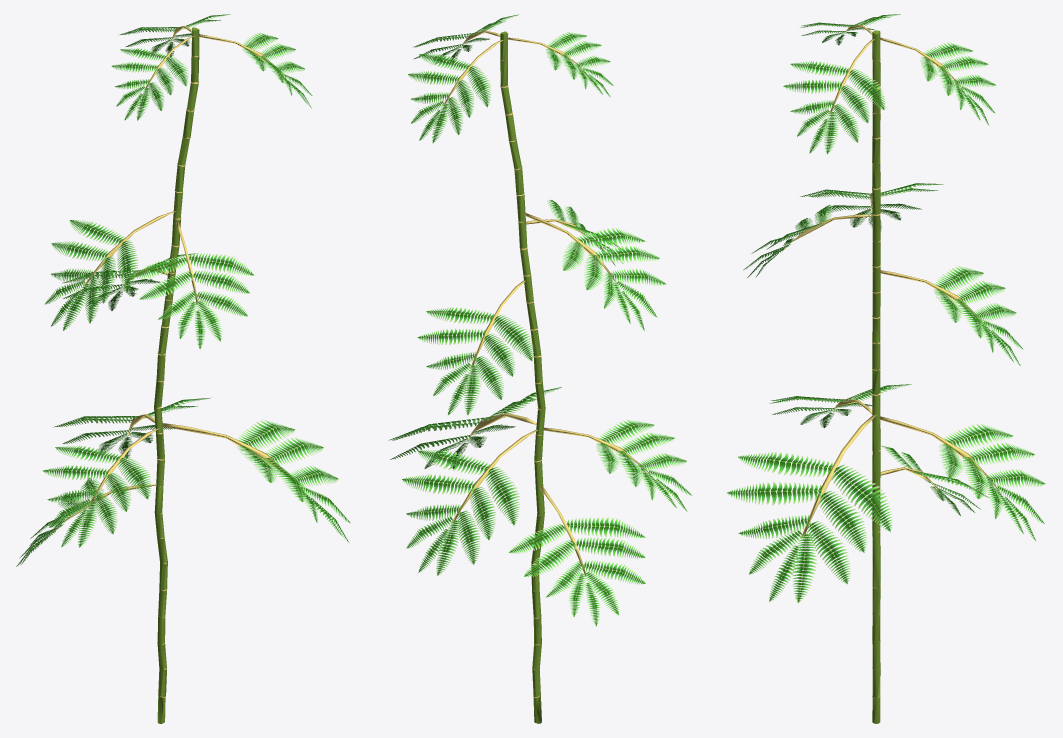
The model's file is bamboo3.fbx.
3 renders of one model, left to right at view 1: azimuth 30°, elevation 25°; view 2: azimuth 150°, elevation 25°; view 3: azimuth 270°, elevation 25°, orthographic. The views are drawn at different scales.
Parts seen in each view (by area): view 1: base, leaf.003, leaf.009, leaf.008, leaf.004, leaf, leaf.005, leaf.001, leaf.007, leaf.006, leaf.002; view 2: leaf.005, leaf.007, base, leaf.006, leaf.008, leaf.003, leaf.002, leaf.004, leaf, leaf.001, leaf.009; view 3: leaf.004, base, leaf.005, leaf.001, leaf.006, leaf.002, leaf.008, leaf.003, leaf.007, leaf.009, leaf.
Boxes of the visible parts, x1,y1,x2,y2 form: base: [154, 27, 199, 723]; leaf.003: [42, 428, 159, 547]; leaf.009: [130, 222, 254, 349]; leaf.008: [45, 211, 175, 330]; leaf.004: [162, 419, 350, 542]; leaf: [111, 35, 194, 120]; leaf.005: [53, 397, 211, 458]; leaf.001: [198, 32, 312, 108]; leaf.007: [16, 477, 156, 566]; leaf.006: [62, 253, 196, 310]; leaf.002: [118, 14, 229, 57]; leaf.005: [402, 430, 537, 575]; leaf.007: [508, 486, 645, 626]; base: [500, 31, 545, 723]; leaf.006: [417, 280, 533, 415]; leaf.008: [524, 213, 666, 330]; leaf.003: [543, 419, 692, 511]; leaf.002: [408, 40, 502, 143]; leaf.004: [388, 387, 561, 468]; leaf: [508, 32, 613, 97]; leaf.001: [412, 14, 518, 64]; leaf.009: [526, 200, 623, 265]; leaf.004: [727, 414, 892, 602]; base: [872, 30, 880, 723]; leaf.005: [878, 416, 1045, 540]; leaf.001: [783, 39, 885, 154]; leaf.006: [872, 266, 1023, 365]; leaf.002: [879, 37, 995, 124]; leaf.008: [800, 183, 943, 229]; leaf.003: [769, 384, 911, 427]; leaf.007: [880, 445, 989, 515]; leaf.009: [743, 204, 872, 277]; leaf: [800, 14, 900, 45].
Size of the model in its own units: 889 by 1988 by 831.
